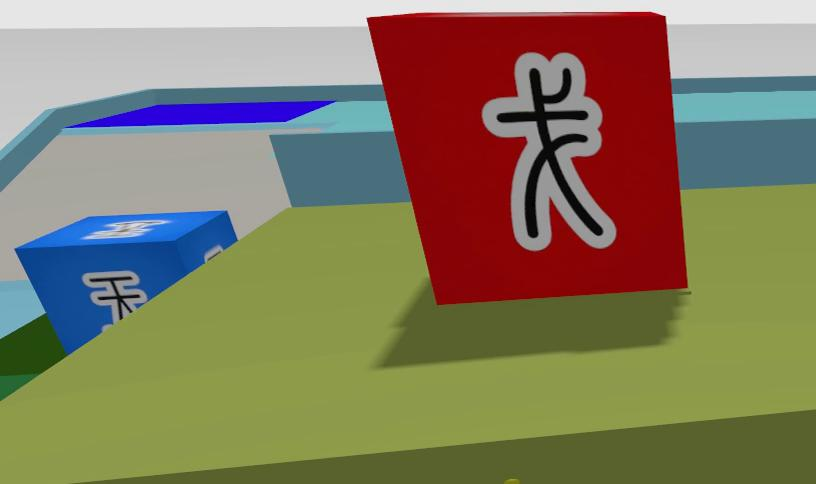KFS_FAKE: (370, 12, 686, 302), (483, 53, 615, 250)
KFS_REAL: (16, 210, 236, 352), (82, 271, 147, 322)
